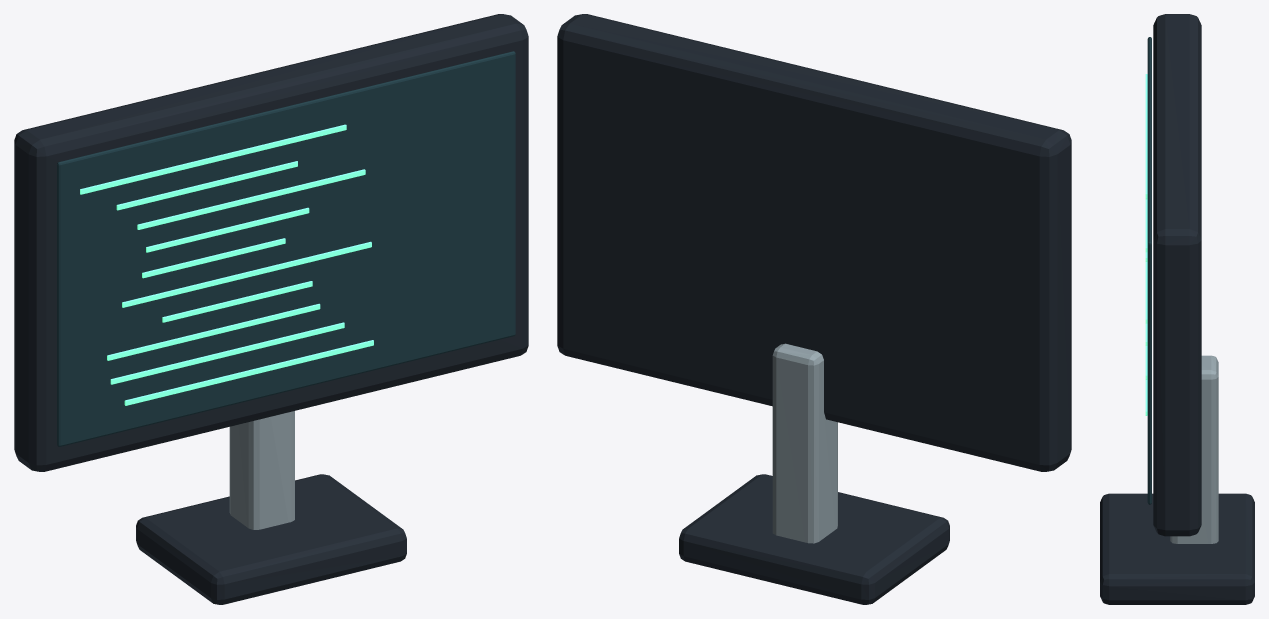
File: monitor.glb
The picture shows the model from 3 angles, left to right: view 1: azimuth 30°, elevation 25°; view 2: azimuth 150°, elevation 25°; view 3: azimuth 270°, elevation 25°; orthographic projection. The views are drawn at different scales.
Visible parts, largest first — view 1: monitor; view 2: monitor; view 3: monitor.
Part boxes in pixels (x1=…): monitor: x1=14, y1=14, x2=528, y2=604; monitor: x1=557, y1=14, x2=1071, y2=604; monitor: x1=1100, y1=14, x2=1254, y2=604.
Bounding box in the file's own units: 1.1 × 1.01 × 0.32.
